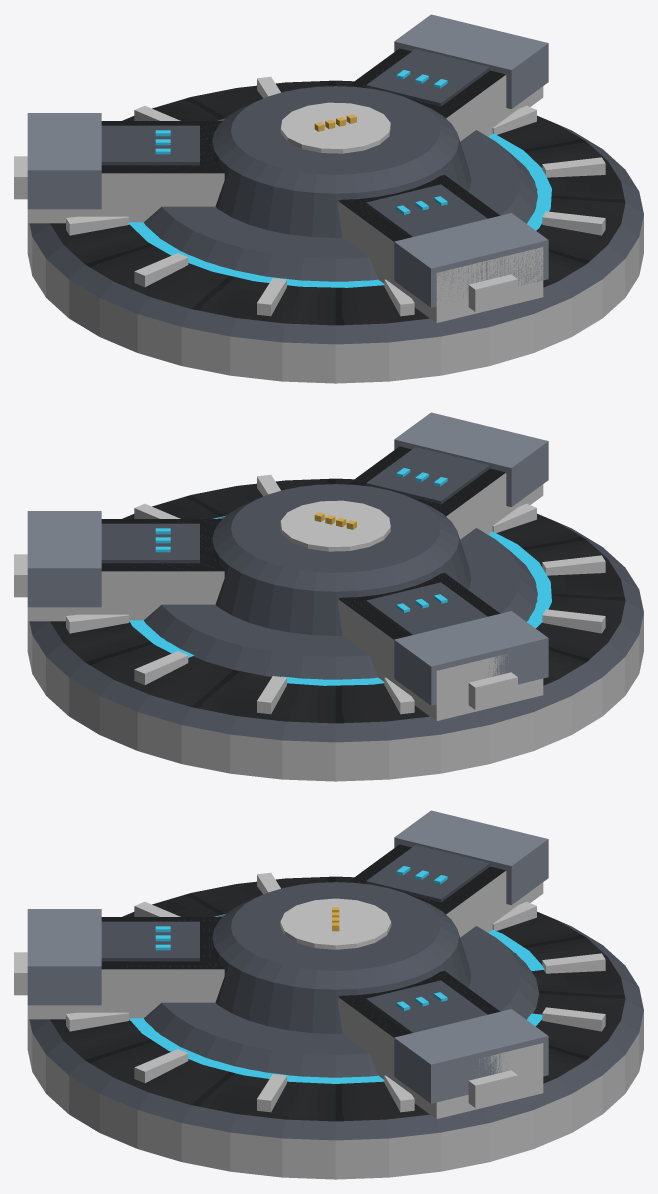
File: rf_drone_dock.obj
3 renders of one model, top to bottom at view 1: azimuth 30°, elevation 25°; view 2: azimuth 150°, elevation 25°; view 3: azimuth 270°, elevation 25°, orthographic.
Visible parts, largest first — view 1: body, shell_0, shell_1, shell_2, fx; view 2: body, shell_1, shell_2, shell_0, fx; view 3: body, shell_2, shell_0, shell_1, fx.
Boxes of the visible parts, x1,y1,x2,y2 form: body: (27, 76, 643, 383); shell_0: (338, 175, 548, 323); shell_1: (14, 113, 224, 223); shell_2: (347, 14, 548, 141); fx: (128, 133, 551, 287); body: (27, 474, 643, 781); shell_1: (338, 573, 548, 721); shell_2: (14, 511, 224, 621); shell_0: (347, 412, 548, 539); fx: (129, 516, 551, 685); body: (27, 872, 643, 1179); shell_2: (338, 971, 548, 1119); shell_0: (14, 909, 224, 1019); shell_1: (347, 810, 548, 937); fx: (129, 914, 544, 1083).
Bounding box in the file's own units: 1 × 0.238 × 1.02.
